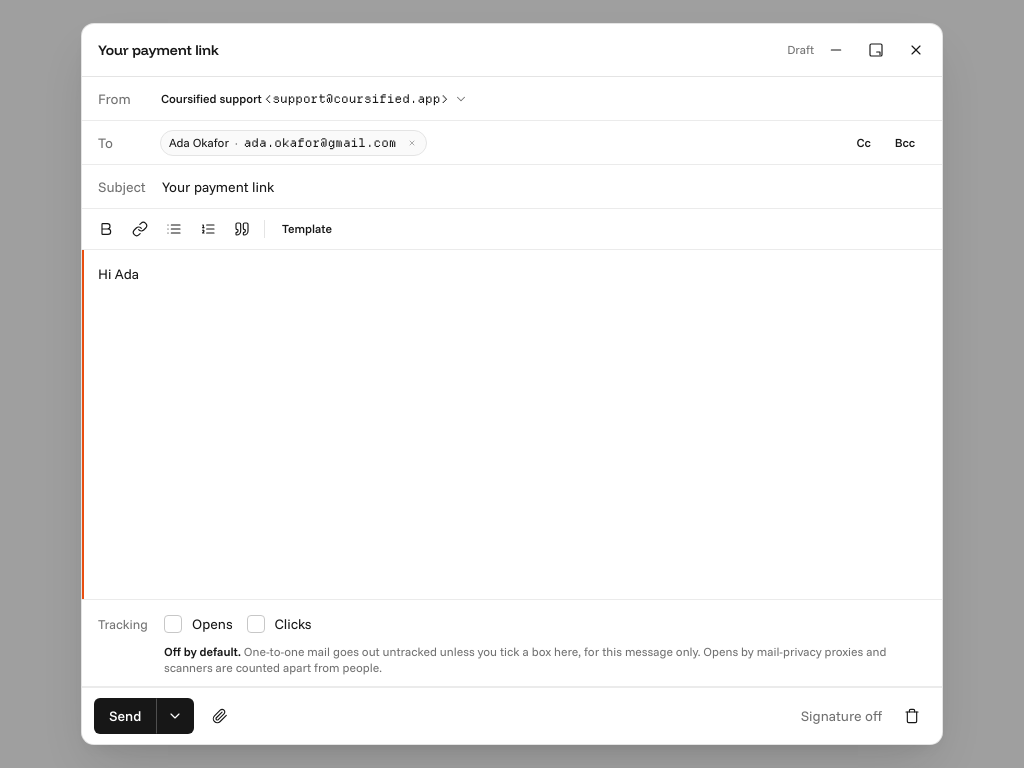
Scenario: a held send (HAL-3460) › says it's waiting for approval, with no countdown
The width and height of the screenshot is (1024, 768).
expect the button named "Remove ada.okafor@gmail.com" is shown: met, box [402,132,422,152]
Click the button "Send".
click(125, 716)  # box [94,698,156,734]
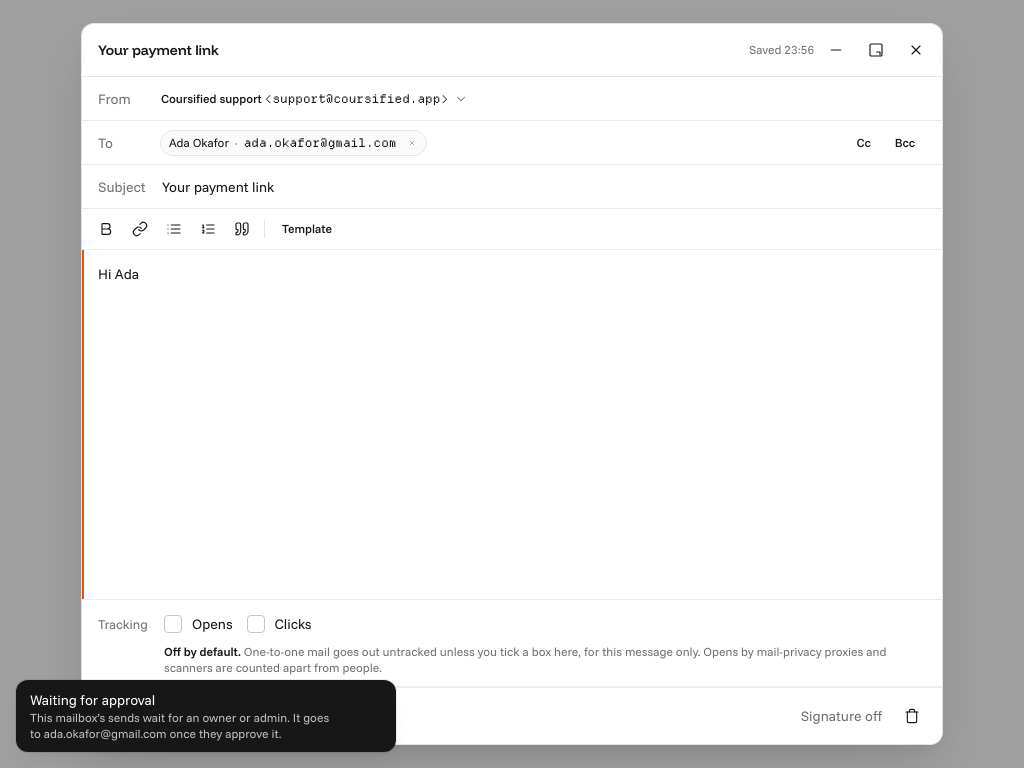
expect the text "Waiting for approval" is shown: met, box [30,691,155,709]
